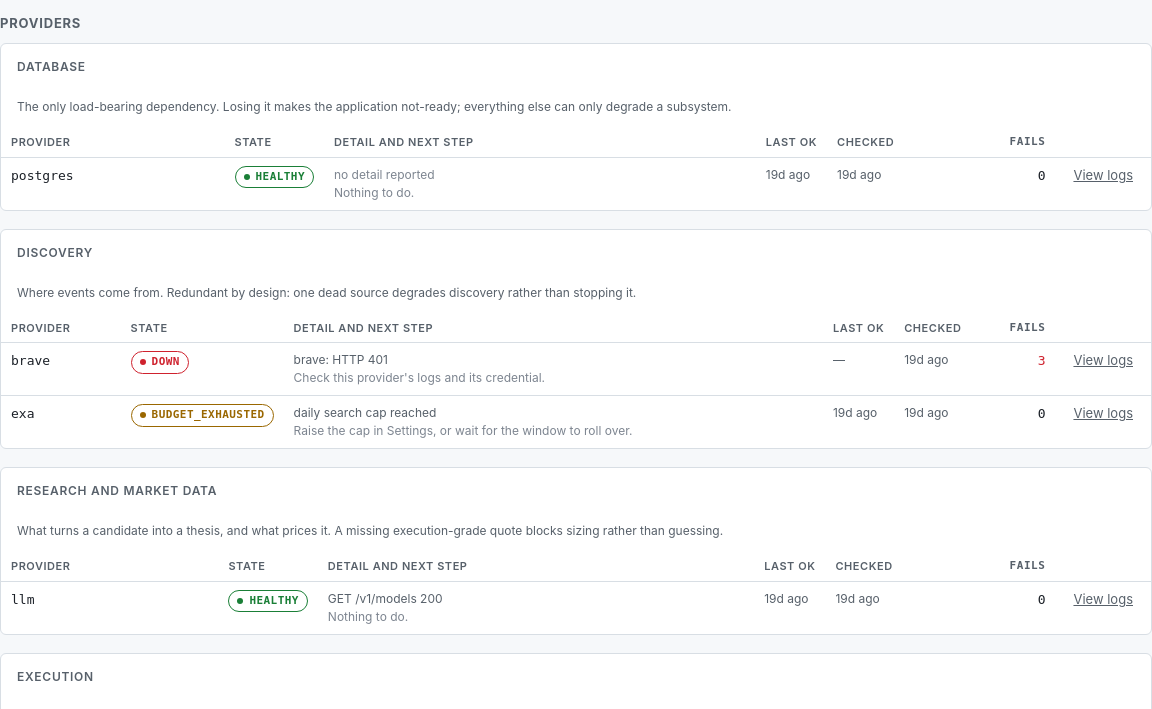
it: health → filtered logs › links a failing provider straight to its own log lines
(page scrolled)
Expected: the text "brave" is shown, [11,353,50,368]
Click the link "View logs" in the row of "brave: HTTP 401": [1103, 360] box [1074,352,1133,368]
(page scrolled)
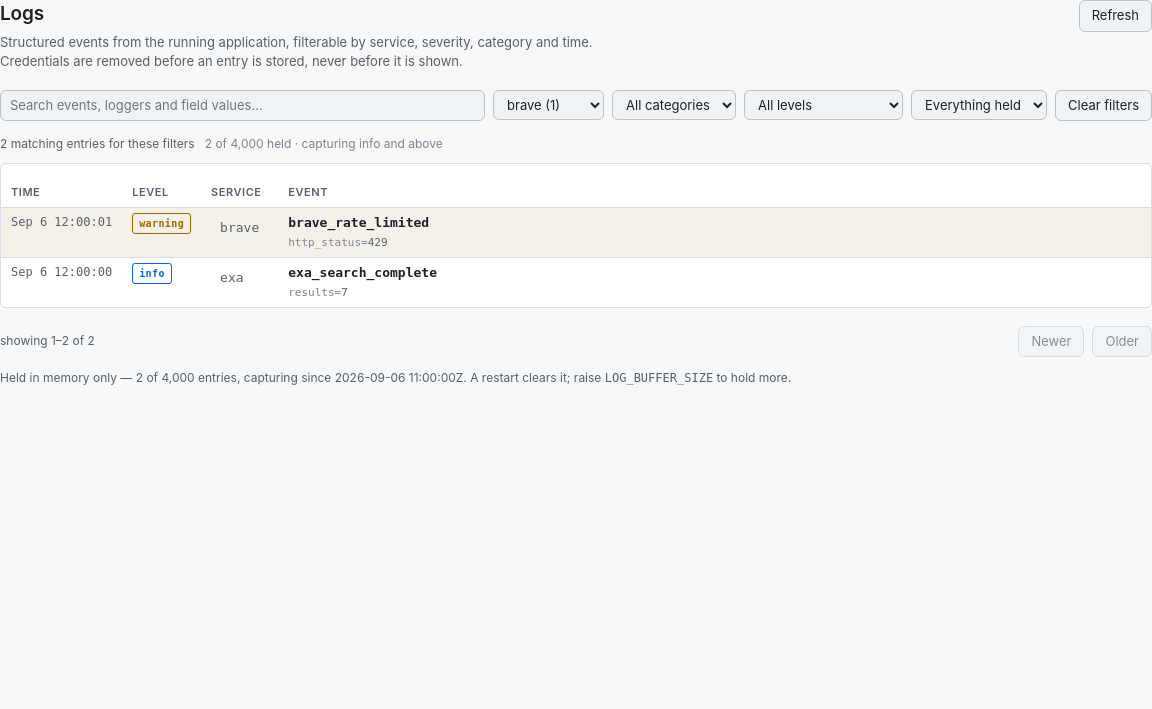
Result: the text "brave_rate_limited" is shown at [288,214,429,230]
